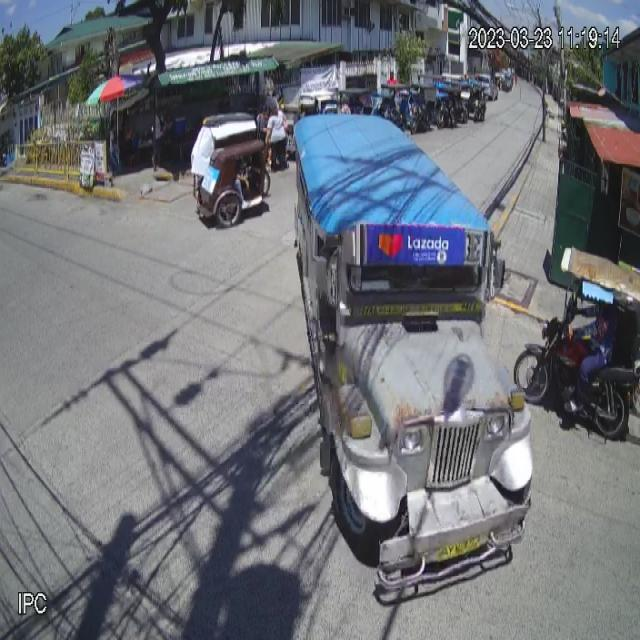Jeep: (293, 112, 536, 607)
Tricycle: (512, 244, 640, 446), (189, 109, 272, 233)
